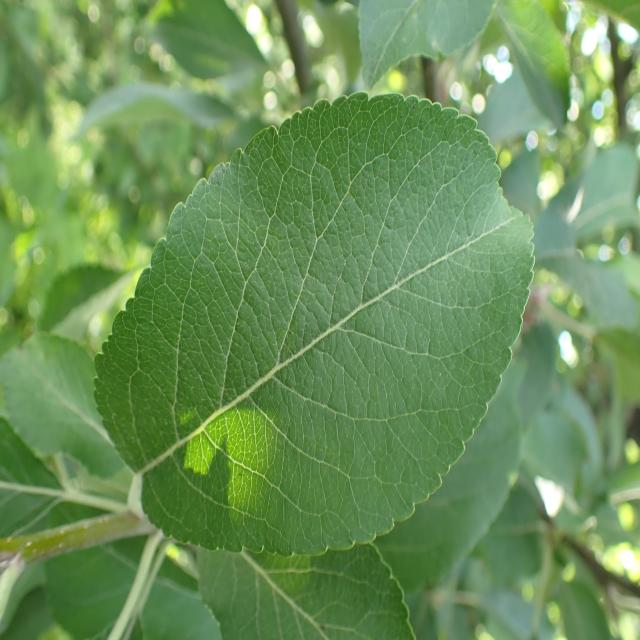healthy: (93, 93, 536, 557), (197, 539, 416, 640), (0, 328, 130, 479), (356, 0, 495, 90)
